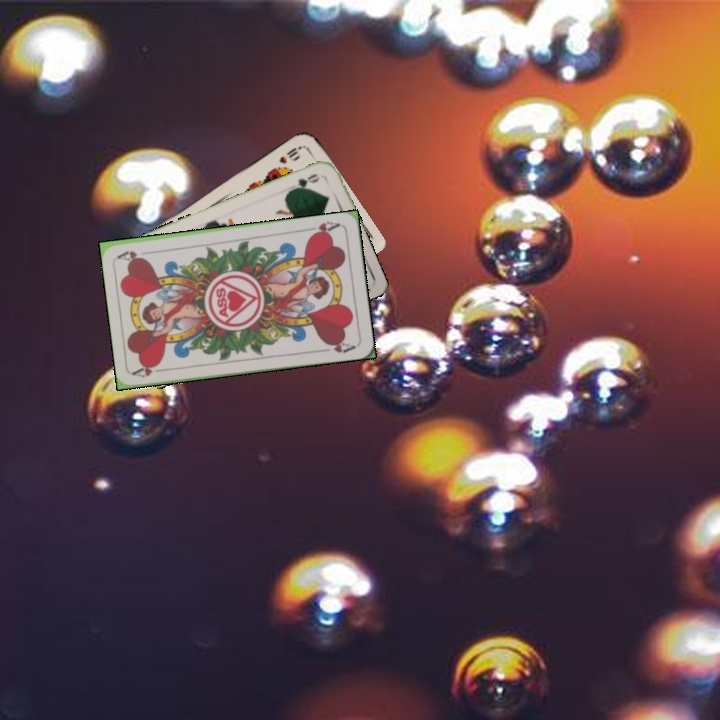GO: (287, 169, 322, 193)
HA: (302, 217, 343, 239), (130, 360, 171, 380)
S10: (275, 142, 304, 166)
